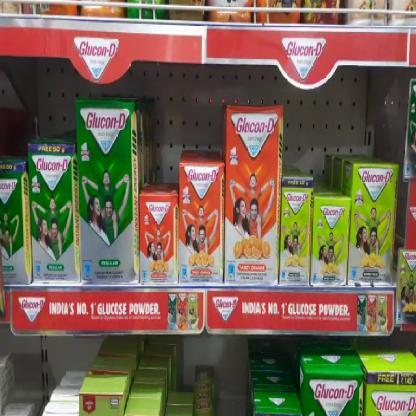Glucon D Nimbu Pani 1-KG: (349, 168, 395, 285)
Glucon D Regular 1-KG: (77, 102, 137, 284), (29, 142, 78, 282)
Glucon D Tangy orange 1-KG: (224, 107, 280, 285), (178, 162, 224, 288)
